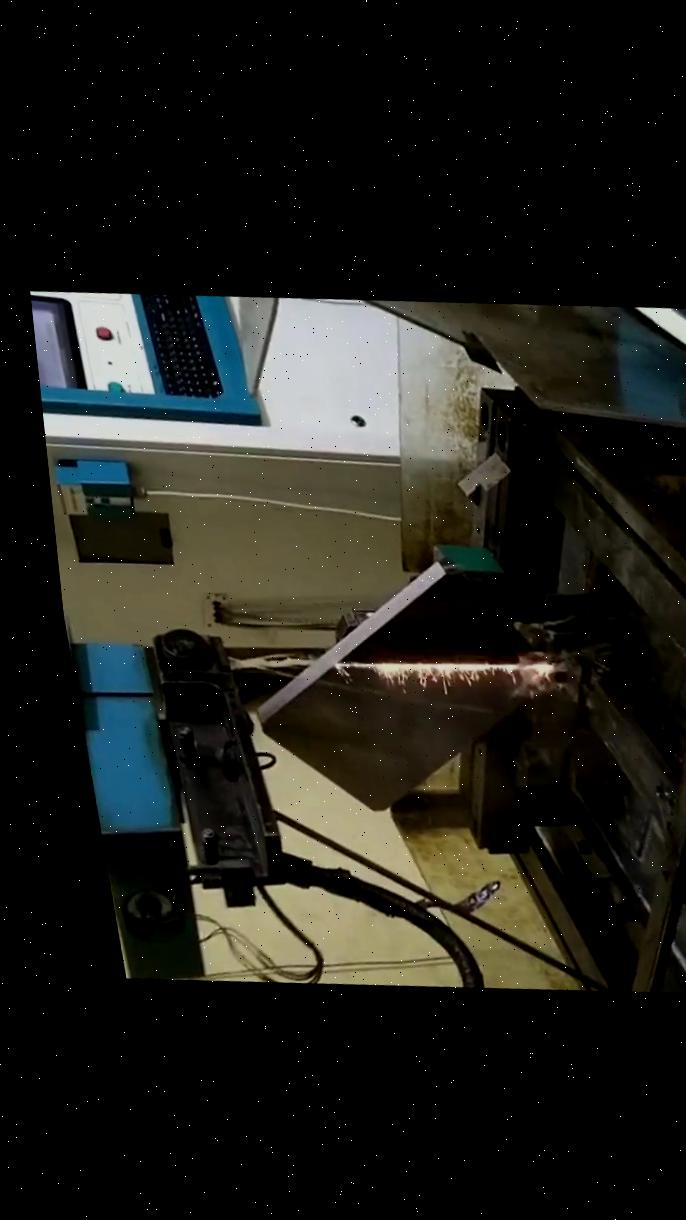fire: (161, 603, 606, 704)
